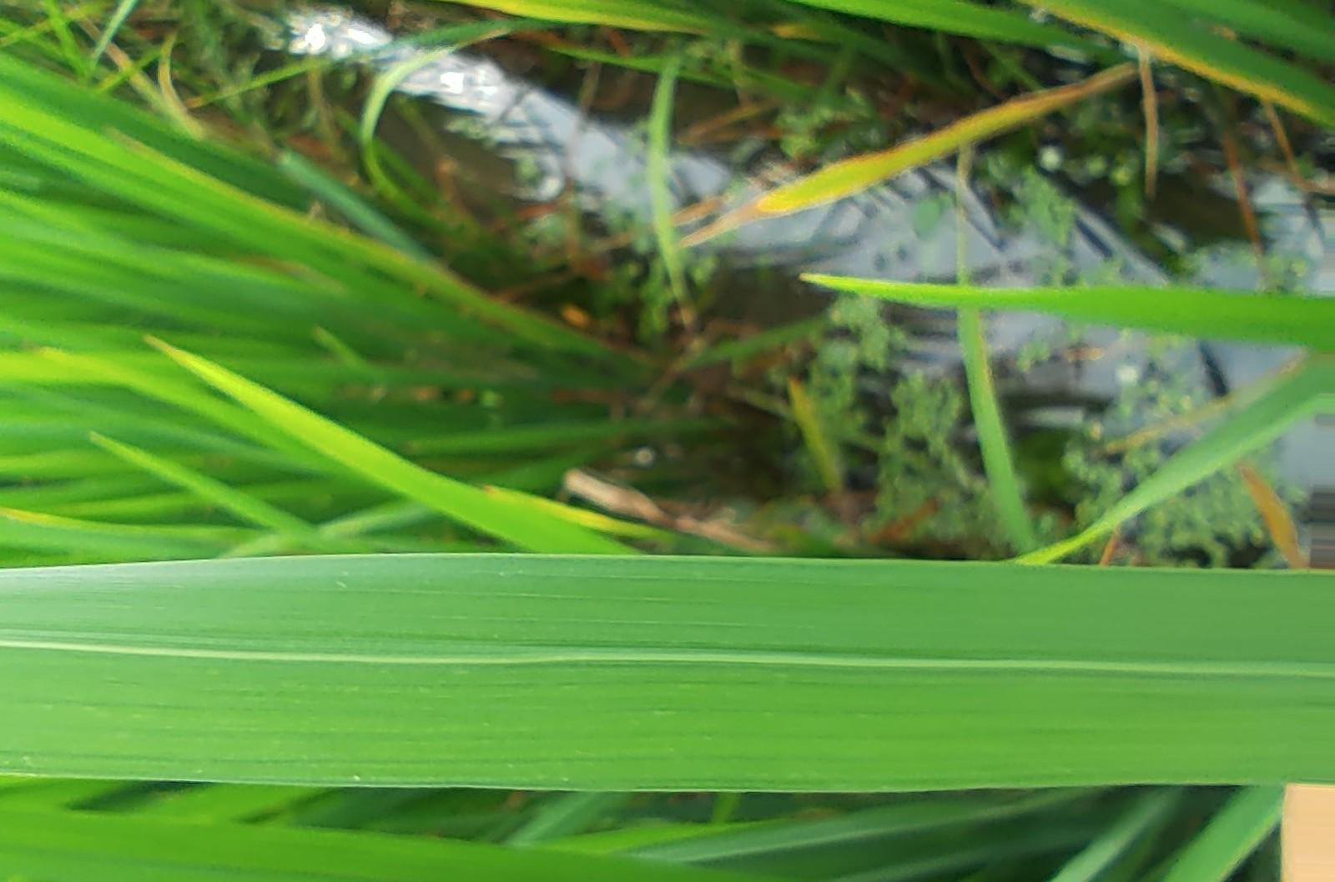Healthy: (1, 555, 1334, 792)
